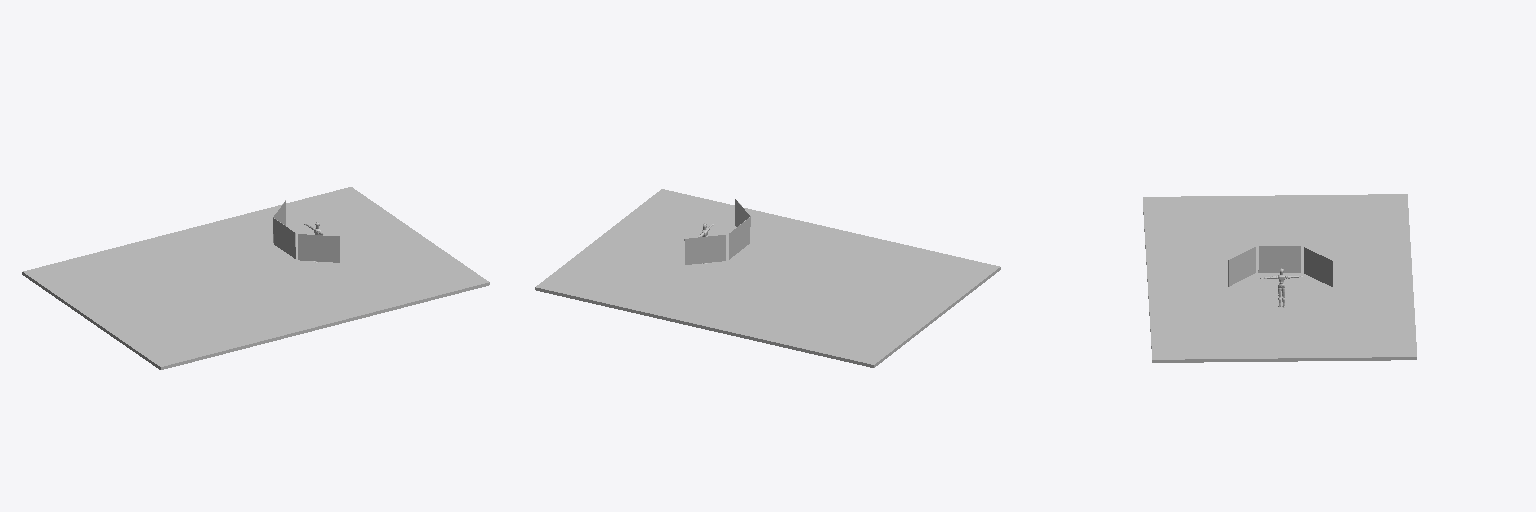
File: Scene1_layout.obj
3 views of the same model, side by side, from view 1: azimuth 30°, elevation 25°; view 2: azimuth 150°, elevation 25°; view 3: azimuth 270°, elevation 25° (orthographic).
Visible parts, largest first — view 1: Cube, Cube.001, Cube.002; view 2: Cube, Cube.003, Cube.002; view 3: Cube, Cube.002, Cube.003, Cube.001.
Part boxes in pixels (bbox=[...]): Cube: bbox=[22, 187, 489, 369]; Cube.001: bbox=[298, 234, 339, 262]; Cube.002: bbox=[273, 218, 295, 258]; Cube: bbox=[535, 189, 1000, 367]; Cube.003: bbox=[684, 235, 725, 264]; Cube.002: bbox=[729, 217, 749, 259]; Cube: bbox=[1143, 194, 1416, 362]; Cube.002: bbox=[1258, 246, 1300, 272]; Cube.003: bbox=[1304, 247, 1332, 286]; Cube.001: bbox=[1228, 247, 1255, 286].
Size of the model in its own units: 8.15 by 1.11 by 5.71.